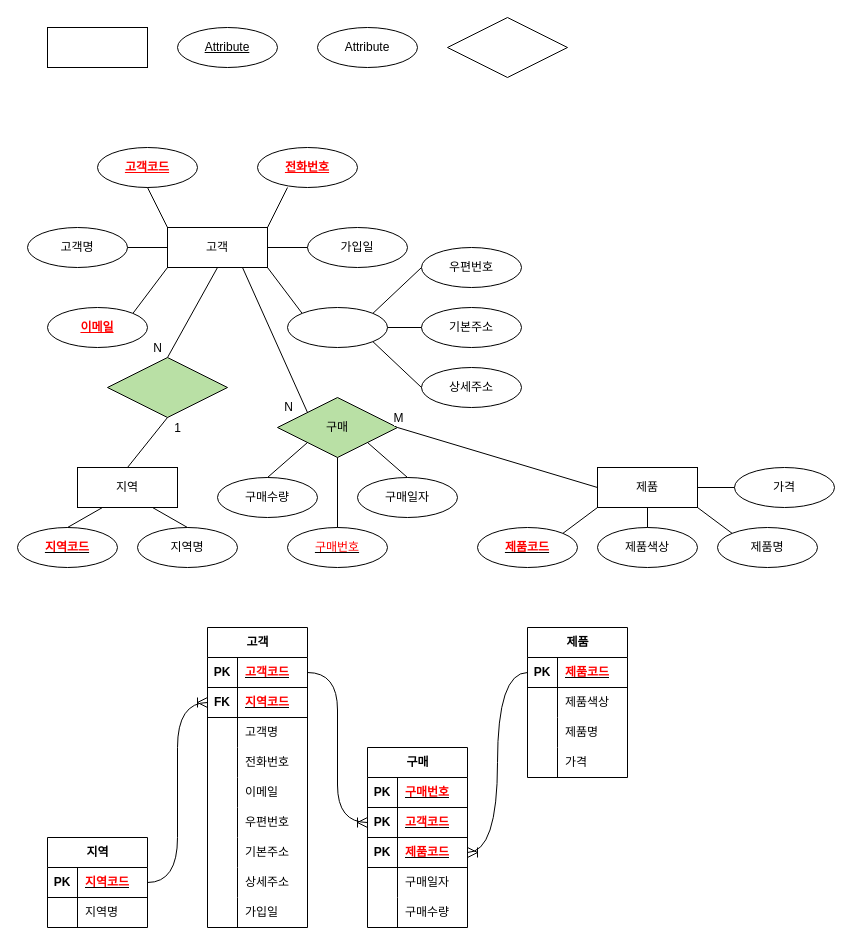
Image size: 852x945. Some labels were removed from this diagram. Each missing label, with the centre of its shape:
"Entity" goes at (97,47).
"Relationship" goes at (507,47).
"관리" goes at (167,387).
"주소" goes at (337,327).
